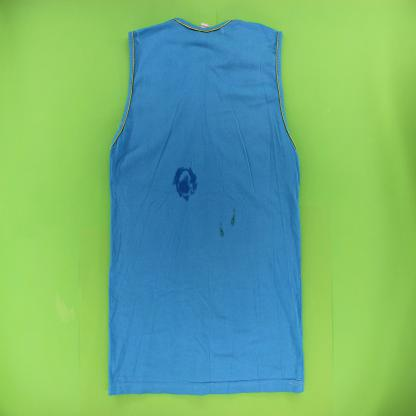stain: (171, 164, 198, 202), (217, 217, 225, 239), (230, 204, 237, 227)
